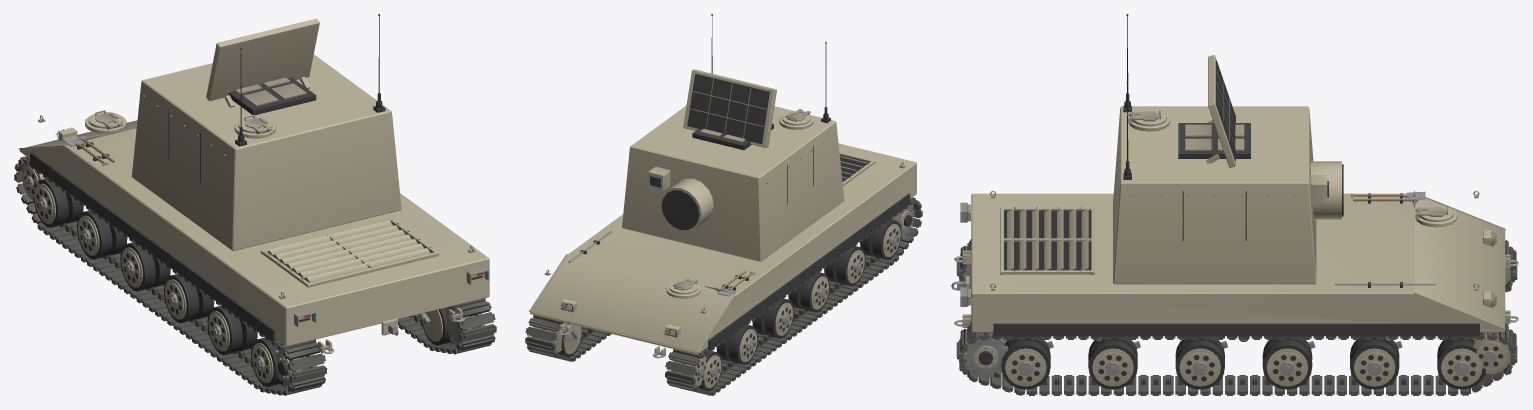
Rendered from rus_aa_tor.glb.
The picture shows the model from 3 angles, left to right: view 1: azimuth 30°, elevation 25°; view 2: azimuth 150°, elevation 25°; view 3: azimuth 270°, elevation 25°; orthographic projection. The views are drawn at different scales.
Visible parts, largest first — view 1: body, turret, barrel; view 2: body, turret, barrel; view 3: body, turret, barrel.
Boxes of the visible parts, x1,y1,x2,y2 form: body: (14, 110, 496, 395); turret: (131, 14, 401, 250); barrel: (228, 77, 316, 115); body: (525, 143, 922, 395); turret: (622, 14, 844, 261); barrel: (692, 123, 773, 150); body: (951, 190, 1518, 395); turret: (1113, 14, 1343, 284); barrel: (1178, 123, 1250, 158).
Bounding box in the file's own units: 3.32 × 4.52 × 7.81.
